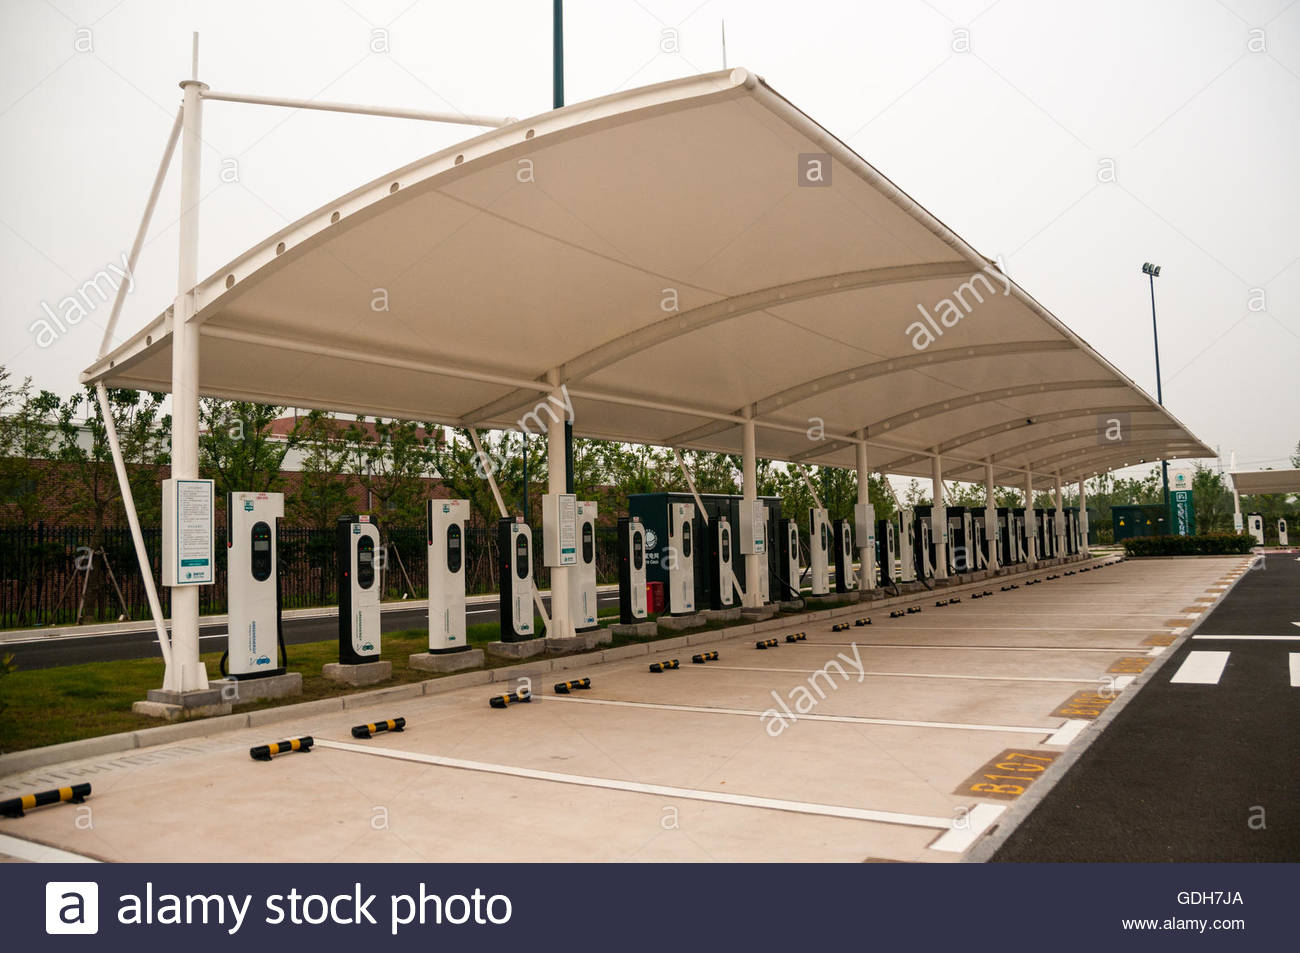empyt_space: (282, 682, 1097, 846), (1, 736, 972, 870), (530, 649, 1144, 747), (667, 633, 1177, 700)
